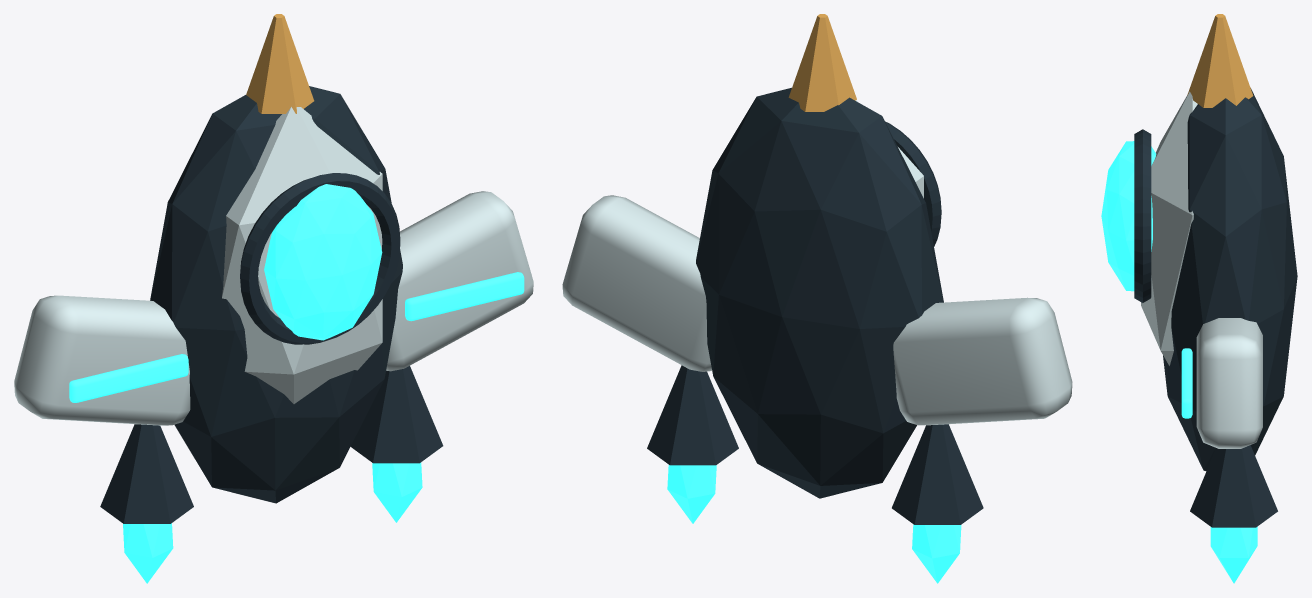
Rendered from surveyor.glb.
The picture shows the model from 3 angles, left to right: view 1: azimuth 30°, elevation 25°; view 2: azimuth 150°, elevation 25°; view 3: azimuth 270°, elevation 25°; orthographic projection. The views are drawn at different scales.
Visible parts, largest first — view 1: Housing, WingLeft, Ceramic carapace, WingRight, Core, Lens guard, ThrusterLeft, ThrusterRight, Cartography stylus, RailLeft, RailRight, ExhaustRight (+1 smaller); view 2: Housing, WingLeft, WingRight, ThrusterLeft, ThrusterRight, Cartography stylus, ExhaustRight, ExhaustLeft, Lens guard; view 3: Housing, WingRight, Ceramic carapace, ThrusterRight, Core, Cartography stylus, Lens guard, ExhaustRight, RailRight.
Boxes of the visible parts, x1=… form: Housing: x1=150, y1=86, x2=402, y2=503; WingLeft: x1=14, y1=295, x2=190, y2=425; Ceramic carapace: x1=222, y1=107, x2=382, y2=403; WingRight: x1=386, y1=191, x2=533, y2=371; Core: x1=264, y1=184, x2=382, y2=340; Lens guard: x1=240, y1=173, x2=400, y2=344; ThrusterLeft: x1=100, y1=424, x2=193, y2=523; ThrusterRight: x1=350, y1=366, x2=443, y2=463; Cartography stylus: x1=246, y1=14, x2=314, y2=113; RailLeft: x1=69, y1=354, x2=188, y2=402; RailRight: x1=405, y1=272, x2=524, y2=321; ExhaustRight: x1=372, y1=462, x2=422, y2=522; Housing: x1=696, y1=87, x2=943, y2=498; WingLeft: x1=893, y1=297, x2=1072, y2=425; WingRight: x1=562, y1=195, x2=711, y2=371; ThrusterLeft: x1=892, y1=424, x2=983, y2=524; ThrusterRight: x1=647, y1=365, x2=738, y2=465; Cartography stylus: x1=788, y1=14, x2=856, y2=111; ExhaustRight: x1=667, y1=465, x2=716, y2=523; ExhaustLeft: x1=912, y1=524, x2=961, y2=583; Lens guard: x1=885, y1=121, x2=941, y2=246; Housing: x1=1163, y1=88, x2=1297, y2=471; WingRight: x1=1196, y1=318, x2=1262, y2=448; Ceramic carapace: x1=1141, y1=91, x2=1197, y2=365; ThrusterRight: x1=1190, y1=445, x2=1277, y2=527; Core: x1=1101, y1=141, x2=1156, y2=291; Cartography stylus: x1=1187, y1=14, x2=1253, y2=107; Lens guard: x1=1134, y1=129, x2=1151, y2=302; ExhaustRight: x1=1210, y1=526, x2=1257, y2=583; RailRight: x1=1181, y1=348, x2=1192, y2=418.
Bounding box in the file's own units: 1.98 × 2.04 × 0.71.
